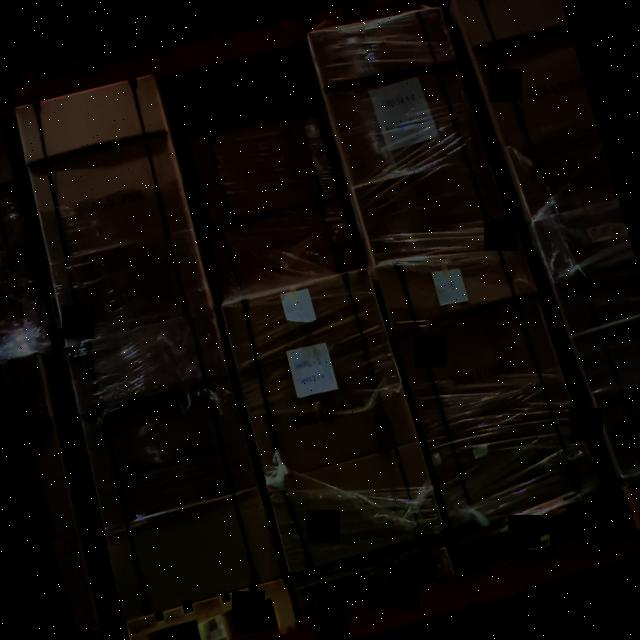box: (221, 270, 442, 573), (67, 312, 280, 612), (380, 237, 595, 528), (17, 71, 211, 341), (310, 5, 511, 261), (189, 110, 346, 228)
